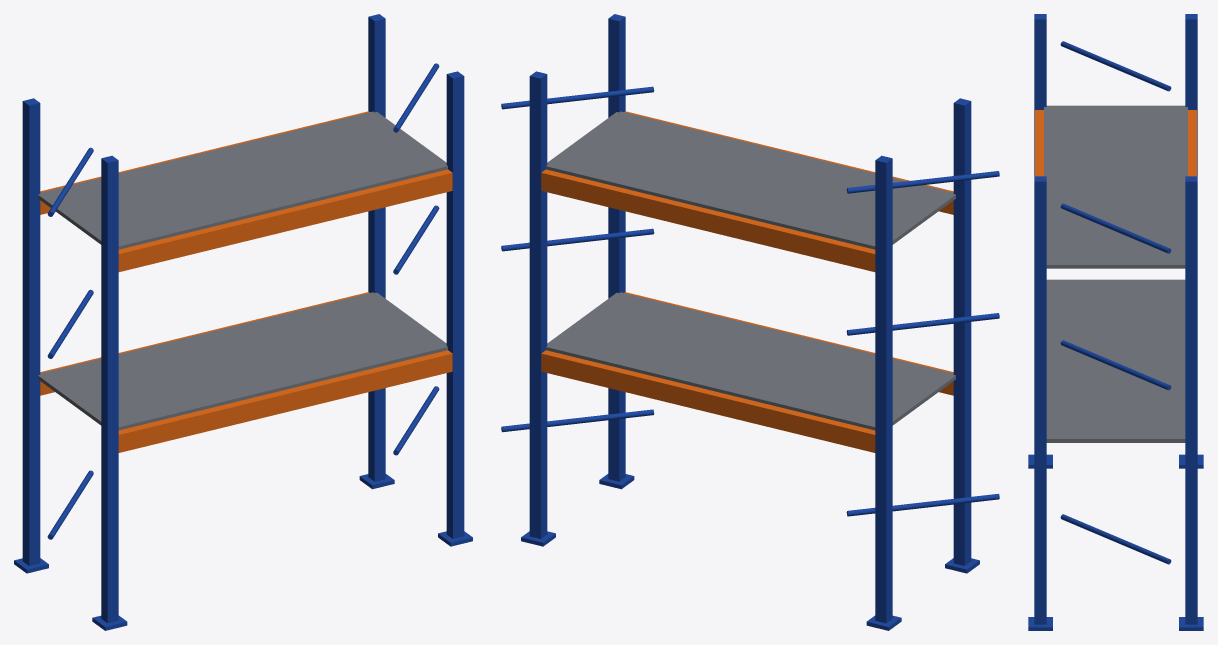
File: Warehouse_Steel_Rack.obj
3 renders of one model, left to right at view 1: azimuth 30°, elevation 25°; view 2: azimuth 150°, elevation 25°; view 3: azimuth 270°, elevation 25°, orthographic. The views are drawn at different scales.
Parts seen in each view (by area): view 1: WireDeck_1.4, WireDeck_2.8, Rack_Upright_-1.4_0.55, Rack_Upright_1.4_-0.55, Rack_Upright_-1.4_-0.55, LoadBeam_-0.55_1.4, LoadBeam_-0.55_2.8, Rack_Upright_1.4_0.55, LoadBeam_0.55_1.4, LoadBeam_0.55_2.8; view 2: WireDeck_1.4, WireDeck_2.8, Rack_Upright_1.4_0.55, Rack_Upright_-1.4_-0.55, Rack_Upright_-1.4_0.55, LoadBeam_0.55_1.4, LoadBeam_0.55_2.8, Rack_Upright_1.4_-0.55, Side_Brace_-1.4_3.2, Side_Brace_-1.4_2.1, Side_Brace_-1.4_0.7, Side_Brace_1.4_0.7 (+4 smaller); view 3: WireDeck_2.8, WireDeck_1.4, Rack_Upright_1.4_-0.55, Rack_Upright_1.4_0.55, Rack_Upright_-1.4_-0.55, Rack_Upright_-1.4_0.55, Side_Brace_1.4_0.7, Side_Brace_-1.4_3.2, Side_Brace_1.4_2.1, Side_Brace_1.4_3.2, LoadBeam_-0.55_2.8, LoadBeam_0.55_2.8 (+2 smaller).
Part boxes in pixels (<box>): WireDeck_1.4: <box>38,292,447,430</box>; WireDeck_2.8: <box>38,111,447,249</box>; Rack_Upright_-1.4_0.55: <box>22,98,40,565</box>; Rack_Upright_1.4_-0.55: <box>446,71,464,538</box>; Rack_Upright_-1.4_-0.55: <box>101,155,118,623</box>; LoadBeam_-0.55_1.4: <box>118,350,452,452</box>; LoadBeam_-0.55_2.8: <box>118,169,452,271</box>; Rack_Upright_1.4_0.55: <box>368,14,385,481</box>; LoadBeam_0.55_1.4: <box>40,292,369,395</box>; LoadBeam_0.55_2.8: <box>40,111,369,214</box>; WireDeck_1.4: <box>546,292,955,430</box>; WireDeck_2.8: <box>546,111,955,249</box>; Rack_Upright_1.4_0.55: <box>529,71,547,538</box>; Rack_Upright_-1.4_-0.55: <box>953,98,971,565</box>; Rack_Upright_-1.4_0.55: <box>875,155,892,623</box>; LoadBeam_0.55_1.4: <box>541,350,875,452</box>; LoadBeam_0.55_2.8: <box>541,169,875,271</box>; Rack_Upright_1.4_-0.55: <box>608,14,625,481</box>; Side_Brace_-1.4_3.2: <box>846,171,999,193</box>; Side_Brace_-1.4_2.1: <box>846,313,999,335</box>; Side_Brace_-1.4_0.7: <box>846,493,999,516</box>; Side_Brace_1.4_0.7: <box>501,409,654,432</box>; WireDeck_2.8: <box>1044,105,1187,268</box>; WireDeck_1.4: <box>1046,279,1185,442</box>; Rack_Upright_1.4_-0.55: <box>1034,176,1046,624</box>; Rack_Upright_1.4_0.55: <box>1185,176,1197,624</box>; Rack_Upright_-1.4_-0.55: <box>1034,14,1046,176</box>; Rack_Upright_-1.4_0.55: <box>1185,14,1197,176</box>; Side_Brace_1.4_0.7: <box>1060,514,1171,564</box>; Side_Brace_-1.4_3.2: <box>1060,41,1171,91</box>; Side_Brace_1.4_2.1: <box>1060,340,1171,390</box>; Side_Brace_1.4_3.2: <box>1060,203,1171,253</box>; LoadBeam_-0.55_2.8: <box>1035,110,1043,176</box>; LoadBeam_0.55_2.8: <box>1188,110,1196,176</box>.
Size of the model in its own units: 3.61 by 3.6 by 1.28.
